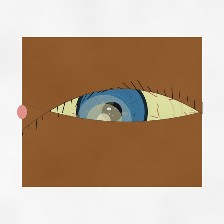corneal_ulcer: (76, 97, 133, 143)
